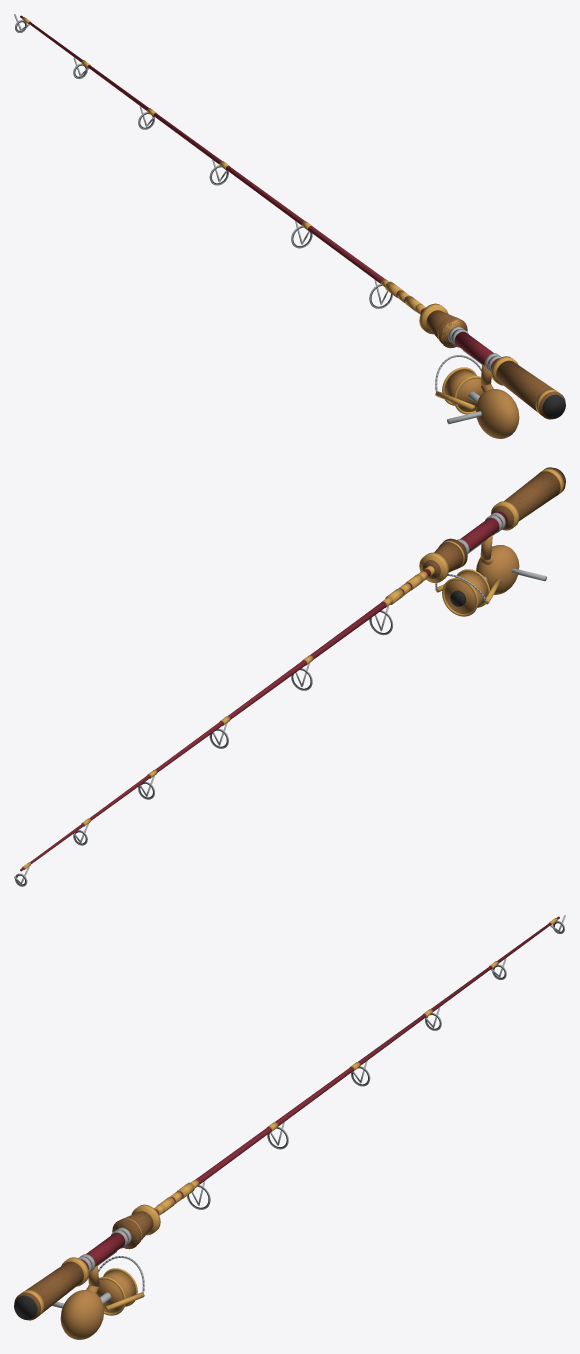
File: heron_feeder.glb
3 views of the same model, one above another, from view 1: azimuth 30°, elevation 25°; view 2: azimuth 150°, elevation 25°; view 3: azimuth 330°, elevation 25° (orthographic).
Parts seen in each view (by area): view 1: Tapered carbon blank.010; view 2: Tapered carbon blank.010; view 3: Tapered carbon blank.010.
Part boxes in pixels (<box>): Tapered carbon blank.010: <box>14,14,565,438</box>; Tapered carbon blank.010: <box>14,467,565,886</box>; Tapered carbon blank.010: <box>14,915,565,1339</box>.
Size of the model in its own units: 0.1318 by 0.1428 by 1.64.
Materials: 8 (1 with a texture image).
